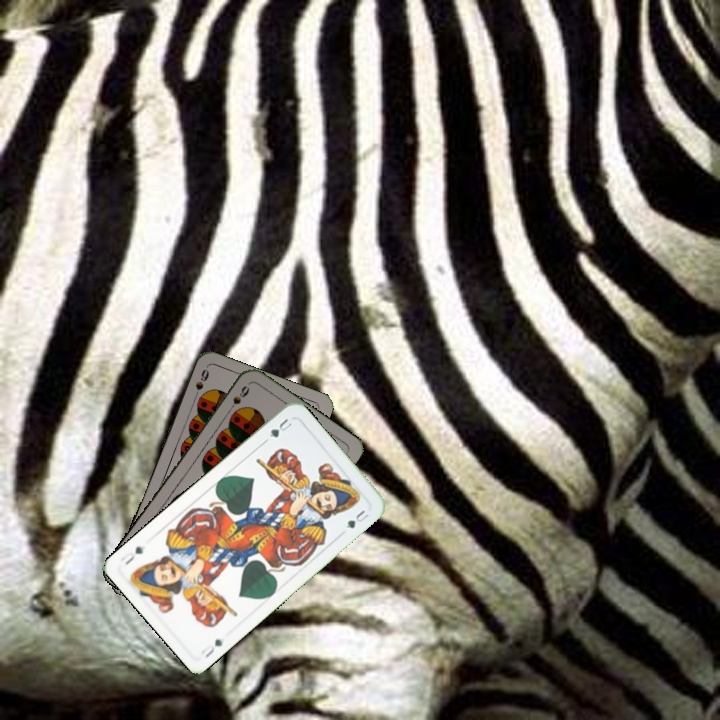GU: (261, 414, 295, 445), (197, 635, 226, 661)
S9: (223, 382, 252, 416), (189, 365, 212, 404)
